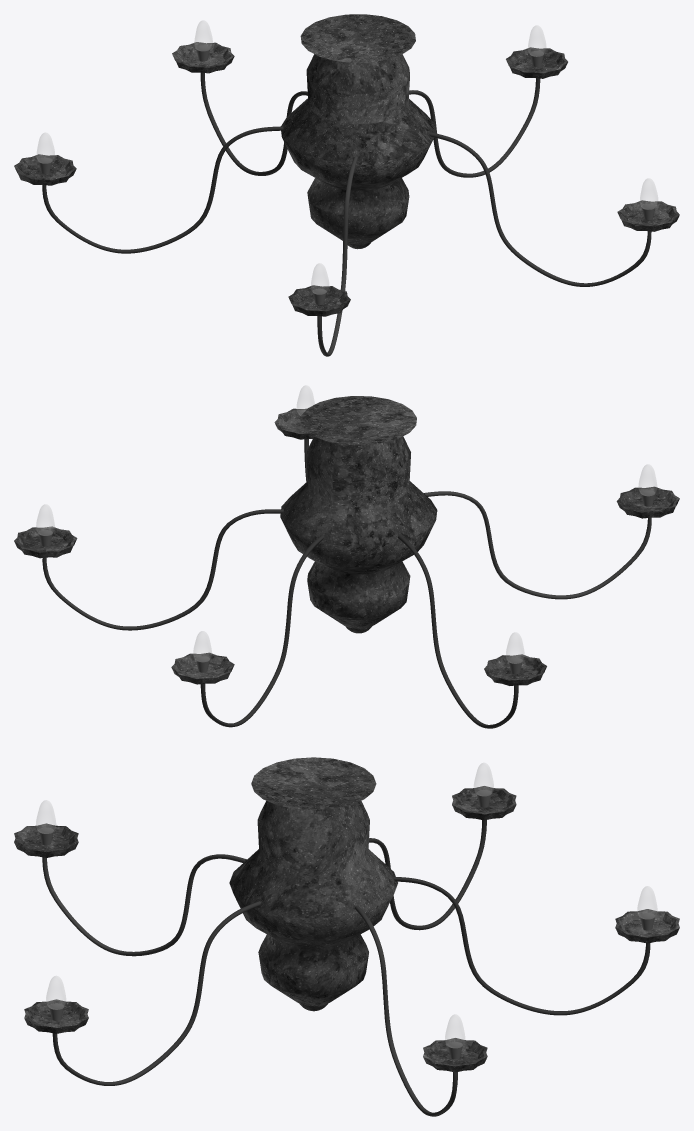
File: lampara_spider.fbx
The picture shows the model from 3 angles, top to bottom: view 1: azimuth 30°, elevation 25°; view 2: azimuth 150°, elevation 25°; view 3: azimuth 270°, elevation 25°; orthographic projection. The views are drawn at different scales.
Visible parts, largest first — view 1: LamparaArana; view 2: LamparaArana; view 3: LamparaArana.
Boxes of the visible parts, box(x1,y1,x2,y2) form: LamparaArana: box(14, 14, 679, 356); LamparaArana: box(14, 385, 679, 728); LamparaArana: box(14, 757, 679, 1116).
Bounding box in the file's own units: 114 × 43.74 × 114.
Materials: 3 (1 with a texture image).
